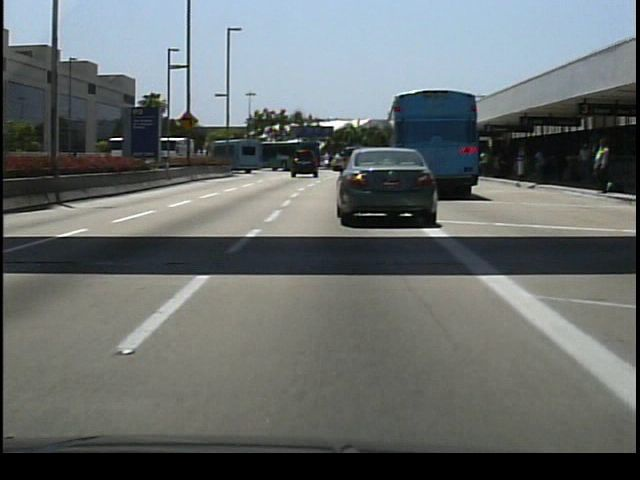person: (590, 136, 616, 198)
